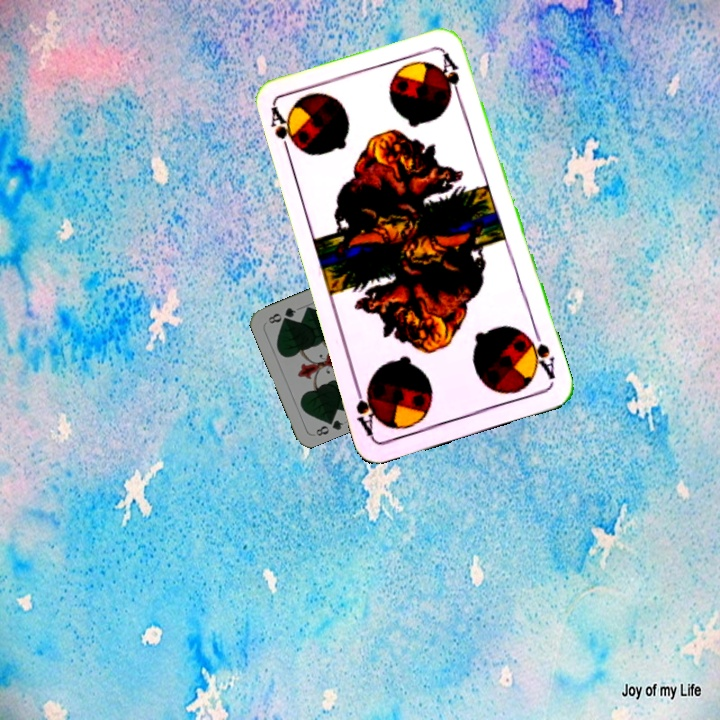G8: (312, 412, 346, 439)
SA: (522, 326, 558, 382), (266, 103, 298, 161)
